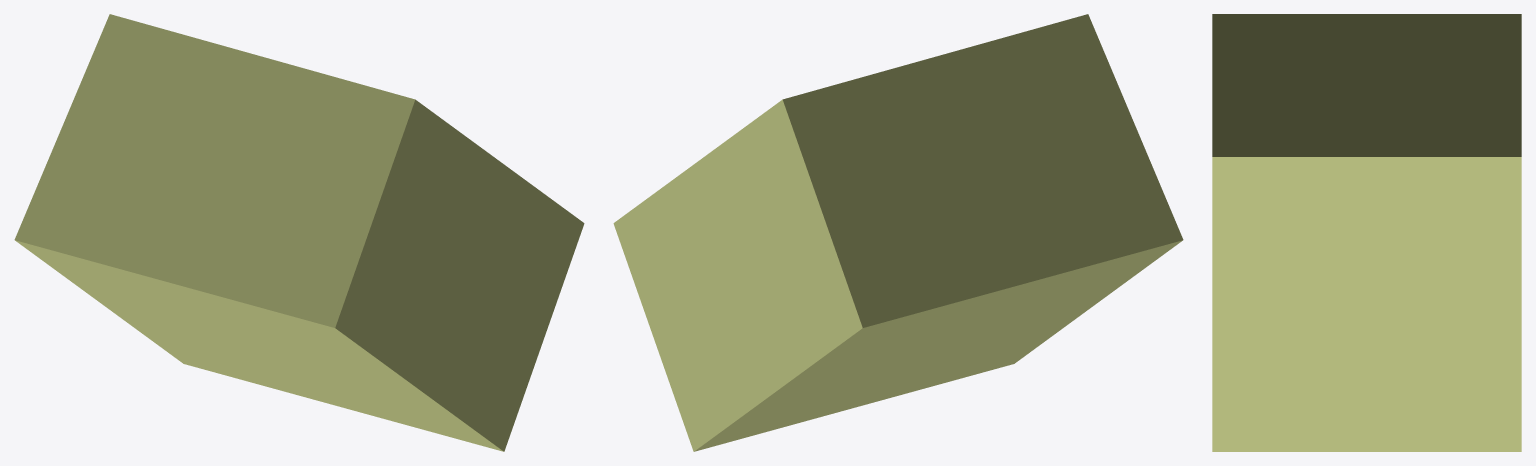
3 renders of one model, left to right at view 1: azimuth 30°, elevation 25°; view 2: azimuth 150°, elevation 25°; view 3: azimuth 270°, elevation 25°, orthographic. The views are drawn at different scales.
Parts seen in each view (by area): view 1: 0_1_1_3_3_1_0_2_3_1_2; view 2: 0_1_1_3_3_1_0_2_3_1_2; view 3: 0_1_1_3_3_1_0_2_3_1_2.
Boxes of the visible parts, x1,y1,x2,y2 form: 0_1_1_3_3_1_0_2_3_1_2: (14,14,584,451); 0_1_1_3_3_1_0_2_3_1_2: (613,14,1183,451); 0_1_1_3_3_1_0_2_3_1_2: (1212,14,1521,451).
Bounding box in the file's own units: 8.21 × 7.22 × 6.
